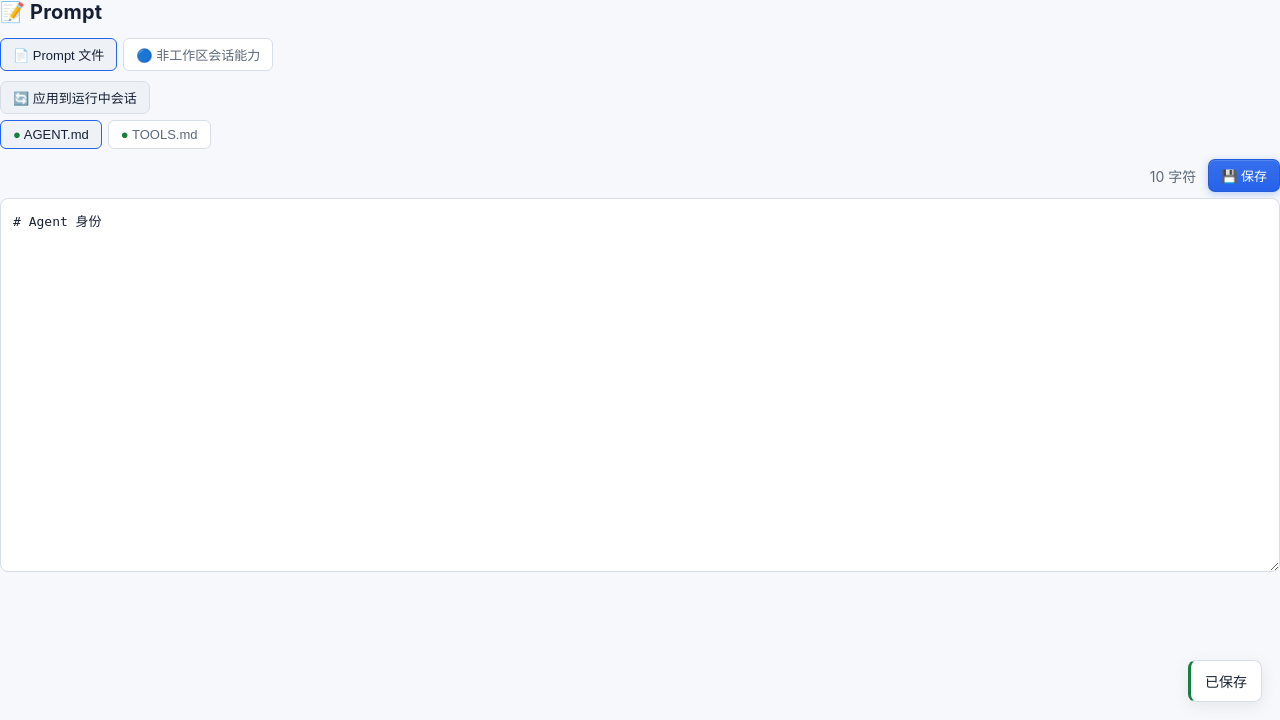
Scenario: PromptPage files view › offers overwrite on 409 conflict and retries with the new mtime
Expected: the text box showing "# Agent 身份" is shown, [0, 198, 1279, 572]
Click the button "💾 保存". click: coordinates (1244, 176)
box: [1208, 159, 1279, 192]
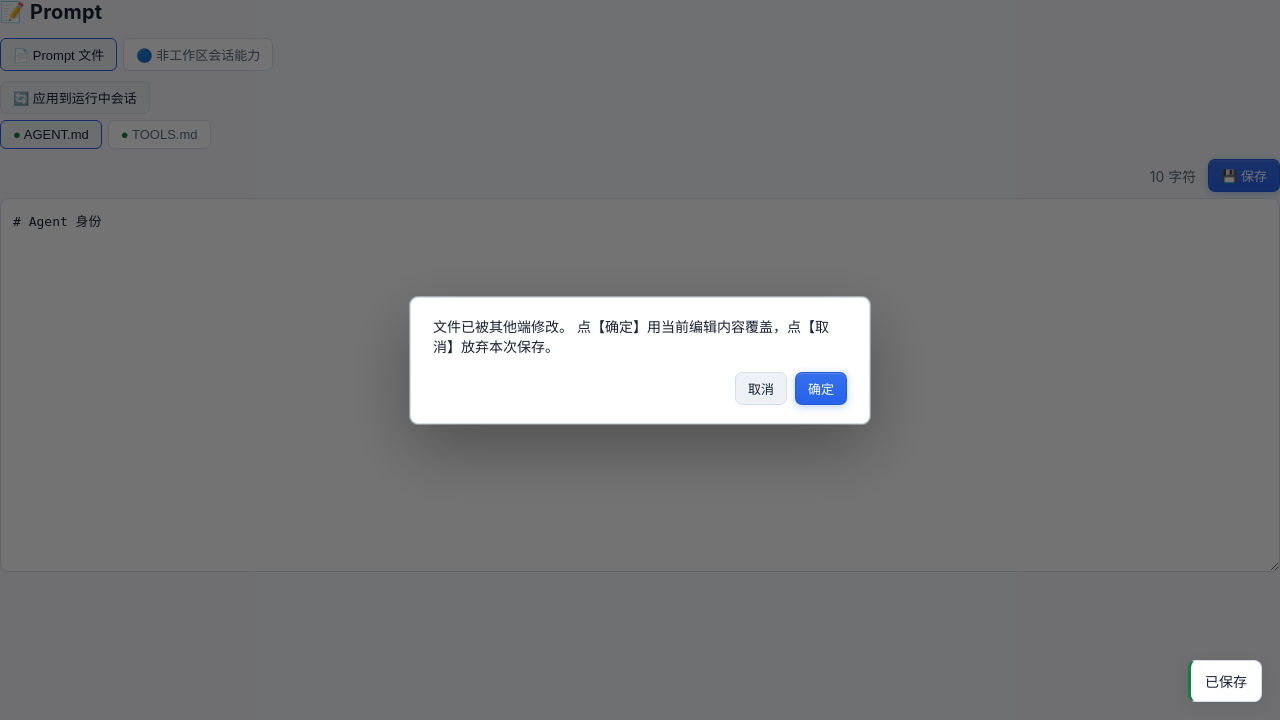
Now the dialog shows "文件已被其他端修改", box [433, 318, 829, 354]
Click the button "确定". click: coordinates (821, 388)
box: [795, 372, 847, 404]
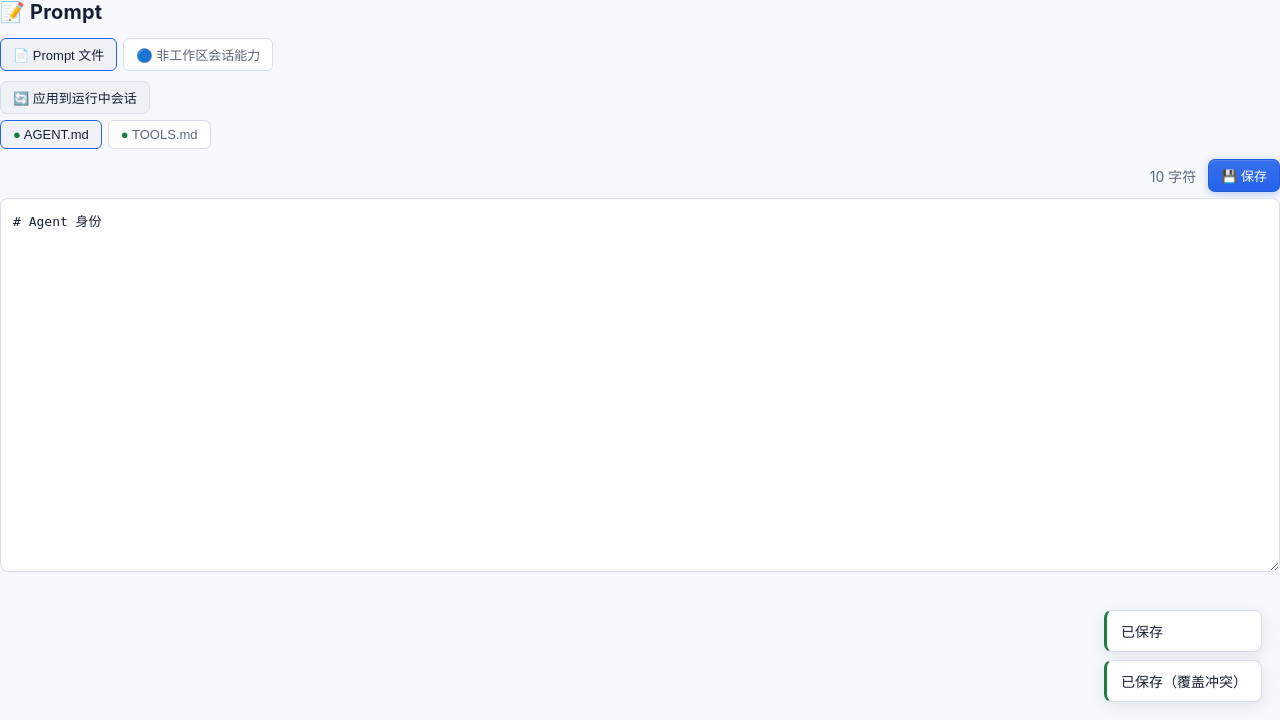
Now the text "已保存（覆盖冲突）" is shown, box [1104, 660, 1262, 702]
